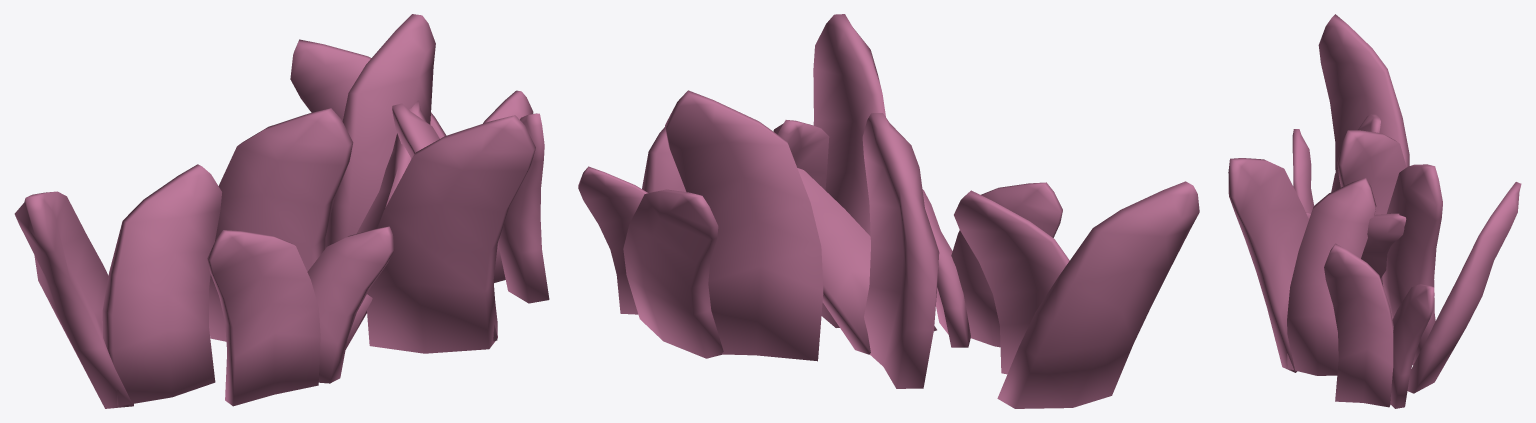
Rendered from grass-24_col.fbx.
The picture shows the model from 3 angles, left to right: view 1: azimuth 30°, elevation 25°; view 2: azimuth 150°, elevation 25°; view 3: azimuth 270°, elevation 25°; orthographic projection. The views are drawn at different scales.
Visible parts, largest first — view 1: grass-24.col; view 2: grass-24.col; view 3: grass-24.col.
Boxes of the visible parts, x1=… form: grass-24.col: x1=14, y1=14, x2=549, y2=408; grass-24.col: x1=578, y1=14, x2=1199, y2=408; grass-24.col: x1=1228, y1=14, x2=1521, y2=408.
Bounding box in the file's own units: 0.2566 × 0.1128 × 0.1438.
1 material, 1 textured.
